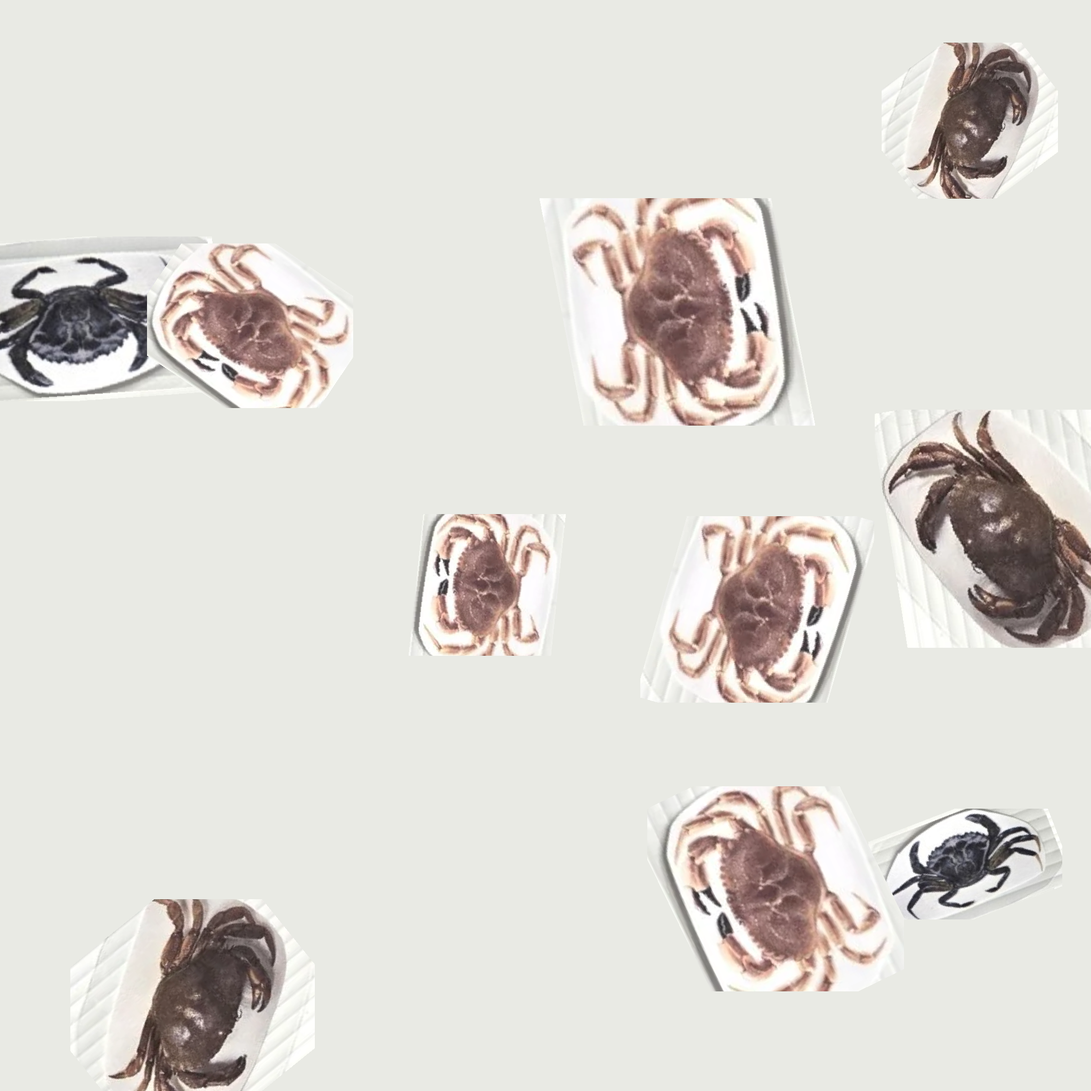evil: (0, 255, 164, 386), (895, 784, 1060, 908)
normal: (550, 203, 796, 426), (874, 402, 1091, 646), (69, 896, 319, 1091), (667, 782, 888, 998), (145, 229, 358, 422), (664, 508, 857, 703), (886, 38, 1053, 198), (426, 498, 558, 662)
